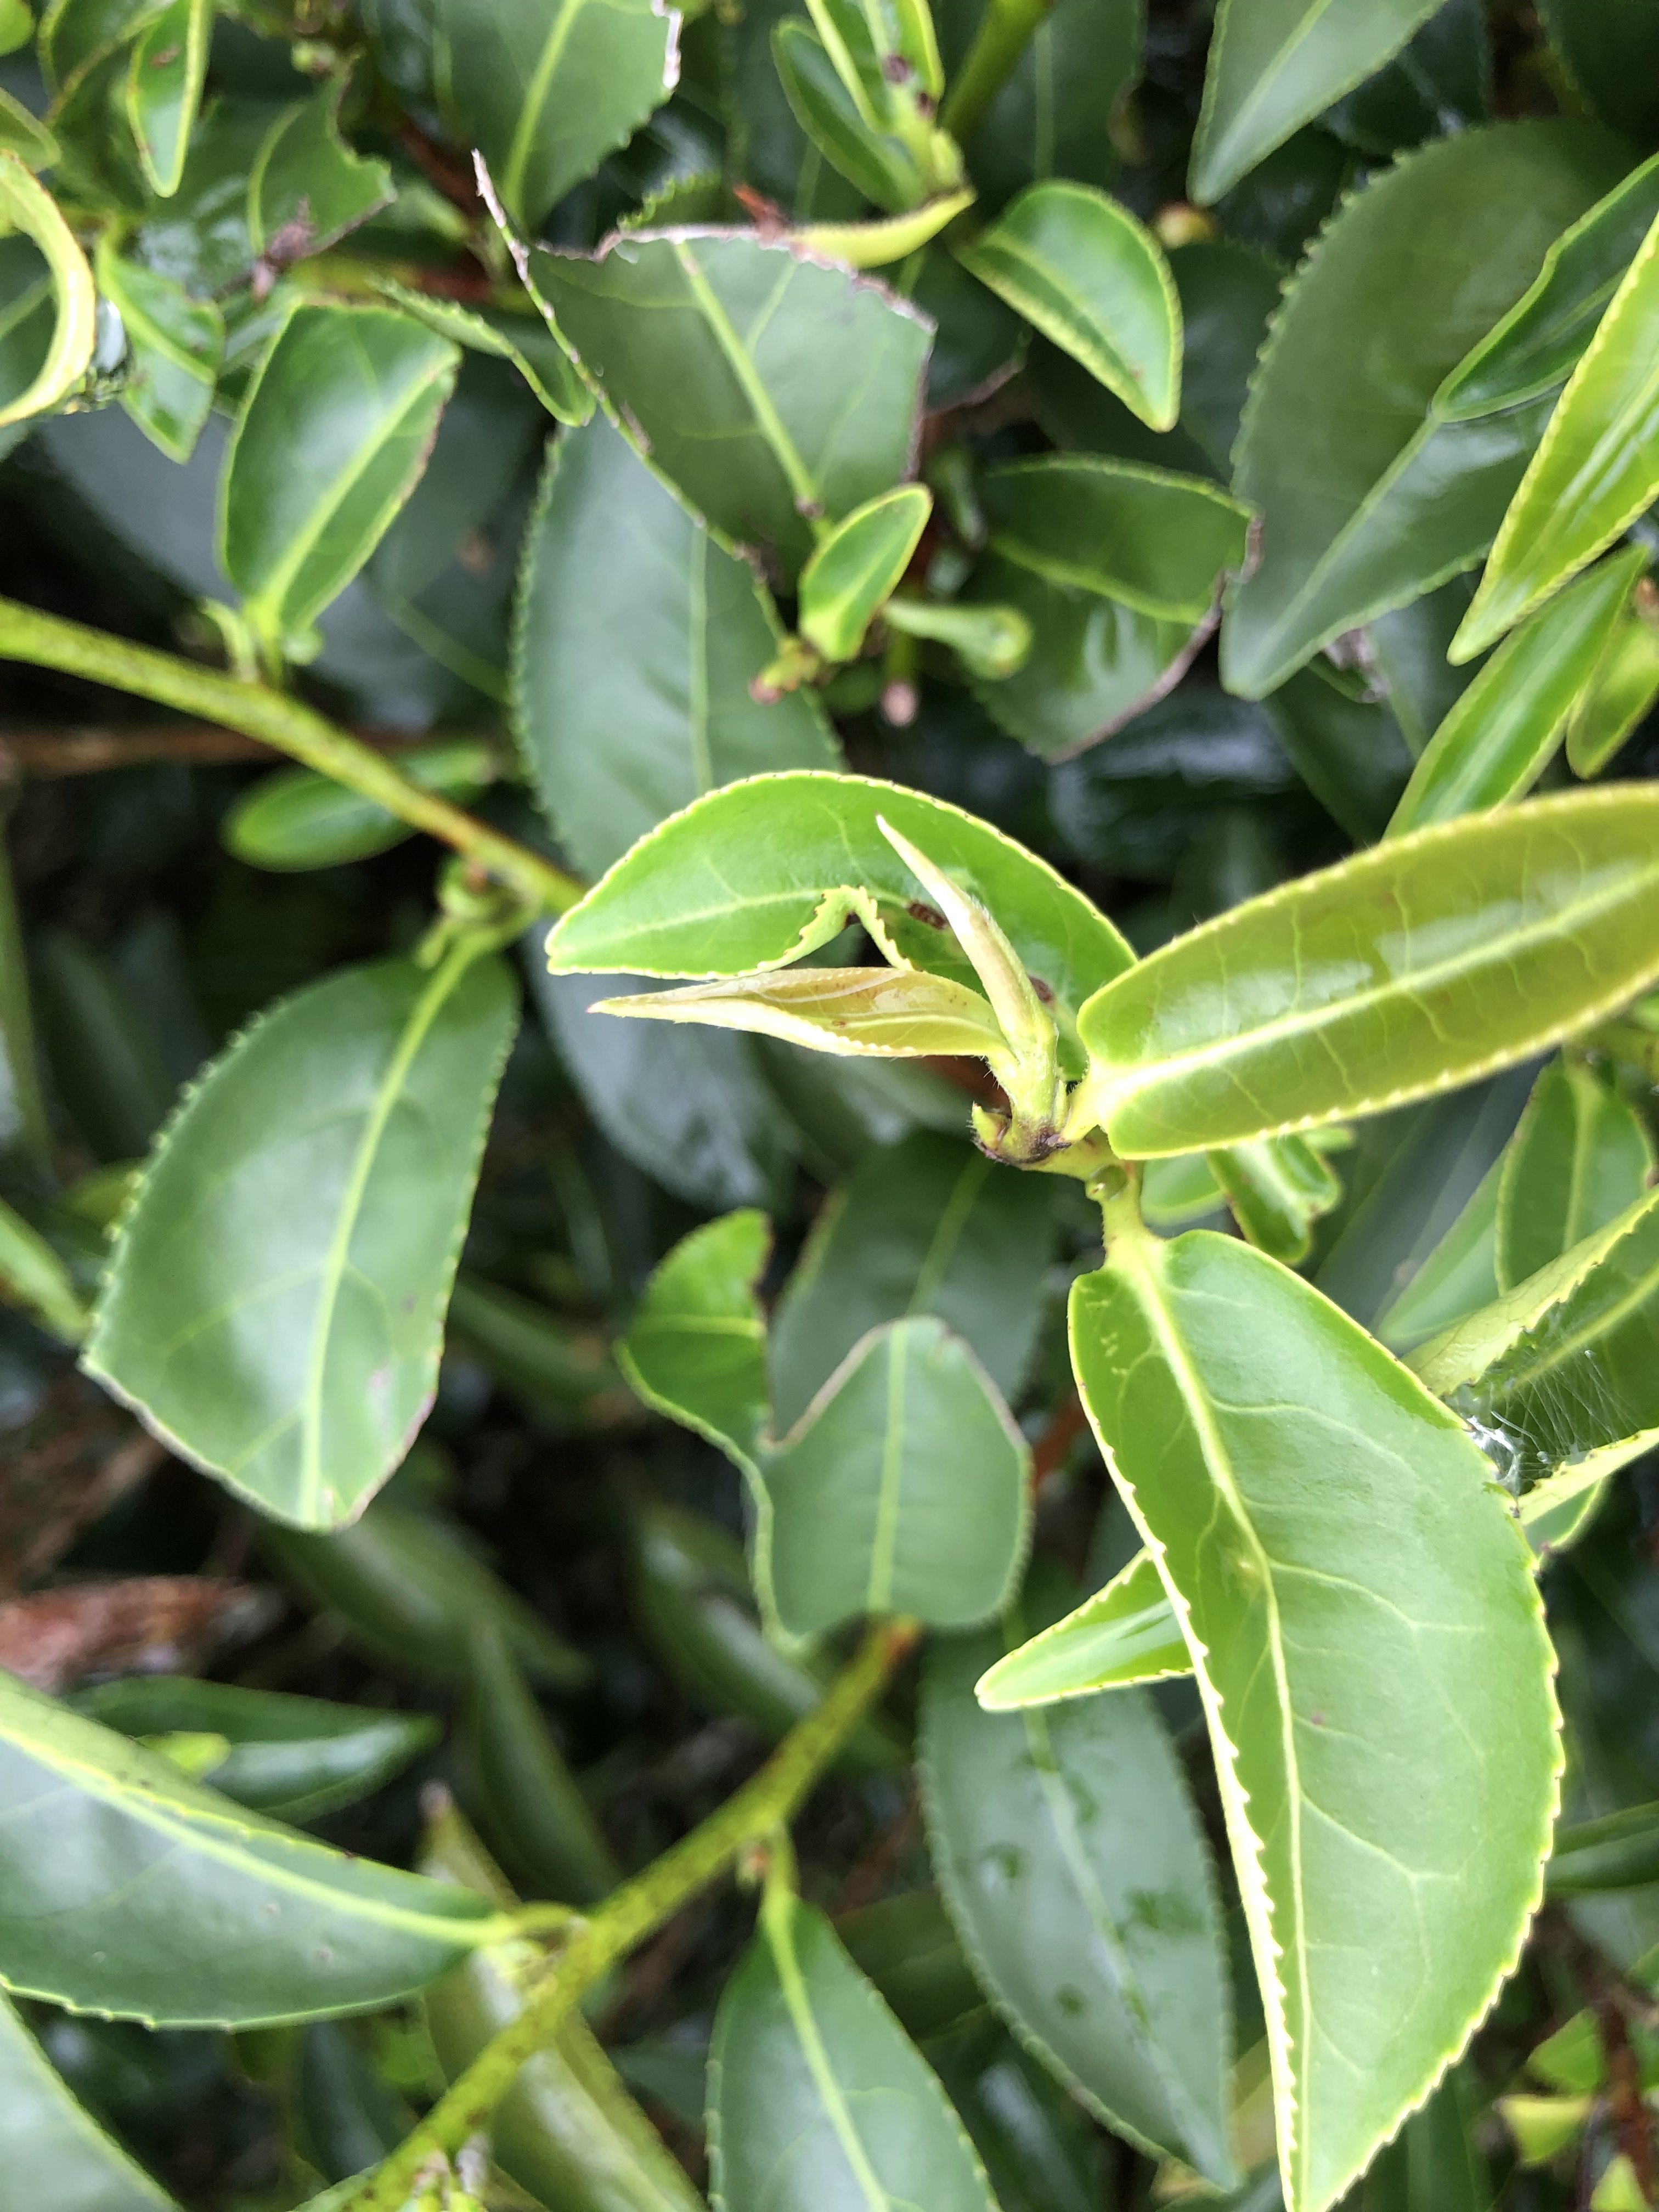formosa: (629, 939, 1026, 1092)
